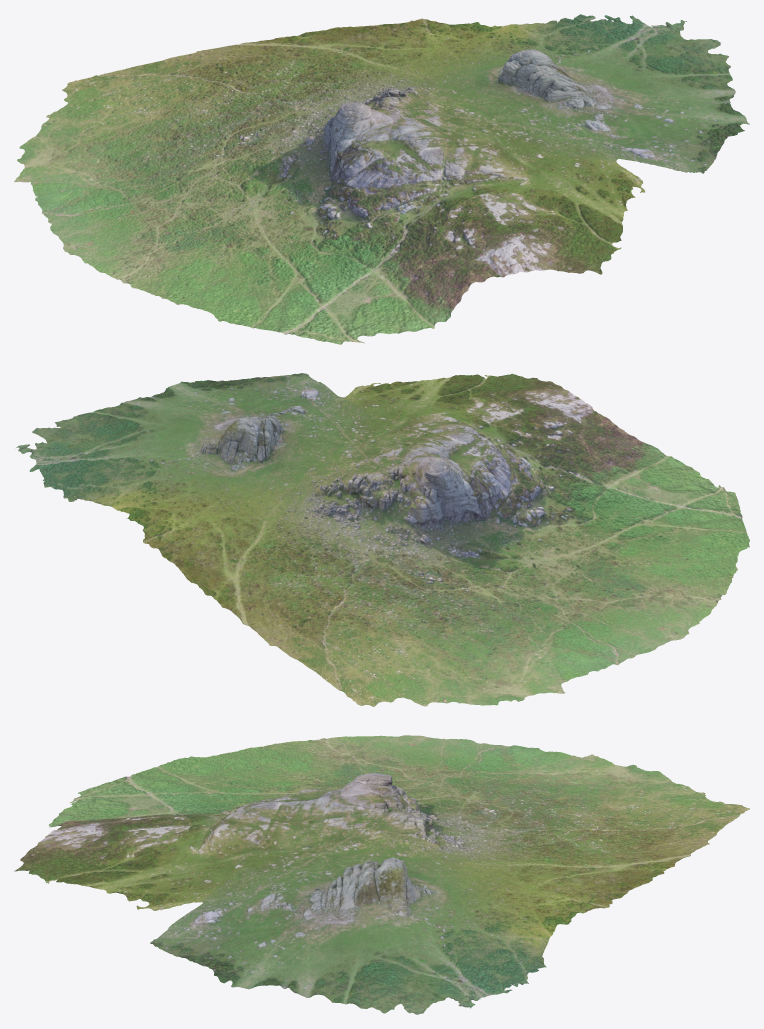
Rendered from mountain_terrain_-_haytor_dartmoor_national_park.glb.
3 renders of one model, top to bottom at view 1: azimuth 30°, elevation 25°; view 2: azimuth 150°, elevation 25°; view 3: azimuth 270°, elevation 25°, orthographic. The views are drawn at different scales.
Visible parts, largest first — view 1: mesh_out_node_texture_material_0; view 2: mesh_out_node_texture_material_0; view 3: mesh_out_node_texture_material_0.
Boxes of the visible parts, <box> form: mesh_out_node_texture_material_0: <box>14,14,749,344</box>; mesh_out_node_texture_material_0: <box>16,373,749,706</box>; mesh_out_node_texture_material_0: <box>14,735,749,1014</box>.
Bounding box in the file's own units: 490 × 72.33 × 461.
1 material, 1 textured.
